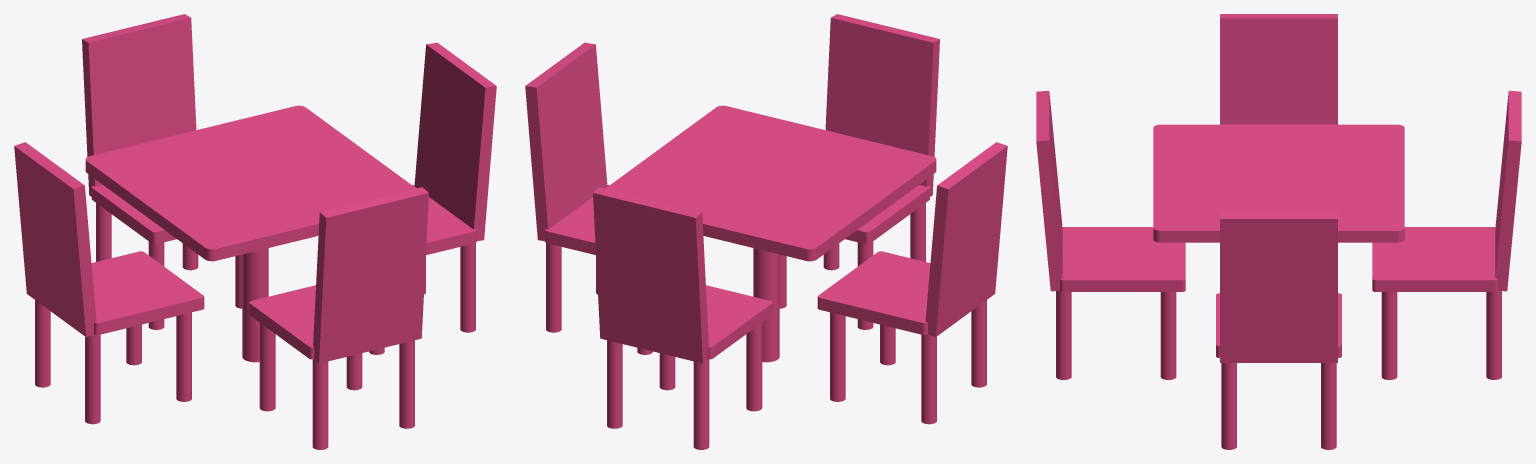
The model's file is Szekesasztal4es.glb.
The picture shows the model from 3 angles, left to right: view 1: azimuth 30°, elevation 25°; view 2: azimuth 150°, elevation 25°; view 3: azimuth 270°, elevation 25°; orthographic projection.
Parts seen in each view (by area): view 1: VisualSceneNode1.014, VisualSceneNode1.023, VisualSceneNode1.029, VisualSceneNode1.035, VisualSceneNode1.017, VisualSceneNode1.015, VisualSceneNode1.022, VisualSceneNode1.016, VisualSceneNode1.034, VisualSceneNode1.028, VisualSceneNode1.027, VisualSceneNode1.021 (+8 smaller); view 2: VisualSceneNode1.014, VisualSceneNode1.029, VisualSceneNode1.023, VisualSceneNode1.035, VisualSceneNode1.017, VisualSceneNode1.015, VisualSceneNode1.028, VisualSceneNode1.016, VisualSceneNode1.034, VisualSceneNode1.022, VisualSceneNode1.032, VisualSceneNode1.020 (+8 smaller); view 3: VisualSceneNode1.014, VisualSceneNode1.035, VisualSceneNode1.017, VisualSceneNode1.022, VisualSceneNode1.028, VisualSceneNode1.023, VisualSceneNode1.029, VisualSceneNode1.024, VisualSceneNode1.031, VisualSceneNode1.026, VisualSceneNode1.033, VisualSceneNode1.037 (+2 smaller).
Boxes of the visible parts, x1,y1,x2,y2 form: VisualSceneNode1.014: (85, 105, 416, 261); VisualSceneNode1.023: (313, 187, 428, 363); VisualSceneNode1.029: (82, 14, 196, 196); VisualSceneNode1.035: (414, 42, 496, 241); VisualSceneNode1.017: (14, 142, 96, 337); VisualSceneNode1.015: (91, 251, 204, 334); VisualSceneNode1.022: (249, 285, 315, 359); VisualSceneNode1.016: (242, 248, 268, 362); VisualSceneNode1.034: (412, 185, 476, 254); VisualSceneNode1.028: (91, 185, 176, 244); VisualSceneNode1.027: (312, 359, 328, 449); VisualSceneNode1.021: (85, 334, 100, 424); VisualSceneNode1.014: (605, 105, 936, 261); VisualSceneNode1.029: (593, 187, 708, 363); VisualSceneNode1.023: (825, 14, 939, 196); VisualSceneNode1.035: (525, 42, 607, 241); VisualSceneNode1.017: (925, 142, 1007, 336); VisualSceneNode1.015: (817, 251, 930, 334); VisualSceneNode1.028: (706, 285, 772, 359); VisualSceneNode1.016: (753, 248, 779, 362); VisualSceneNode1.034: (545, 185, 609, 254); VisualSceneNode1.022: (845, 185, 929, 244); VisualSceneNode1.032: (693, 359, 709, 449); VisualSceneNode1.020: (921, 334, 936, 424); VisualSceneNode1.014: (1153, 124, 1404, 242); VisualSceneNode1.035: (1220, 212, 1337, 362); VisualSceneNode1.017: (1220, 14, 1337, 124); VisualSceneNode1.022: (1060, 227, 1185, 291); VisualSceneNode1.028: (1372, 227, 1497, 291); VisualSceneNode1.023: (1036, 90, 1062, 291); VisualSceneNode1.029: (1495, 90, 1521, 291); VisualSceneNode1.024: (1160, 292, 1176, 379); VisualSceneNode1.031: (1381, 292, 1397, 379); VisualSceneNode1.026: (1056, 290, 1071, 379); VisualSceneNode1.033: (1486, 290, 1501, 379); VisualSceneNode1.037: (1221, 363, 1236, 449).
Size of the model in its own units: 1.85 by 1.01 by 1.85.
